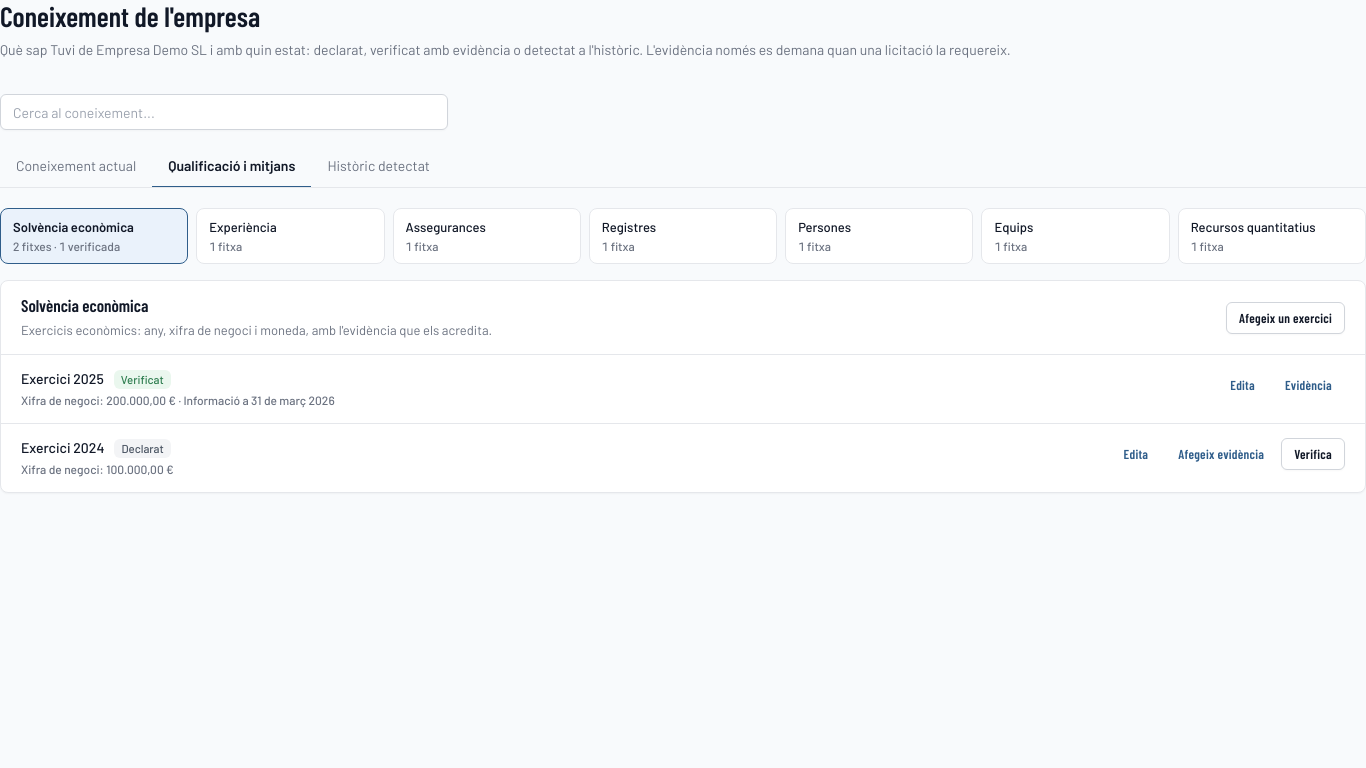
Qualificació i mitjans: formularis › l'error de l'API es llegeix en paraules, mai en JSON
Expected: the navigation bar named "Seccions de qualificació i mitjans" is shown, [0,208,1365,264]
Click the button "Afegeix un exercici": [1286, 318] box [1226,302,1345,334]
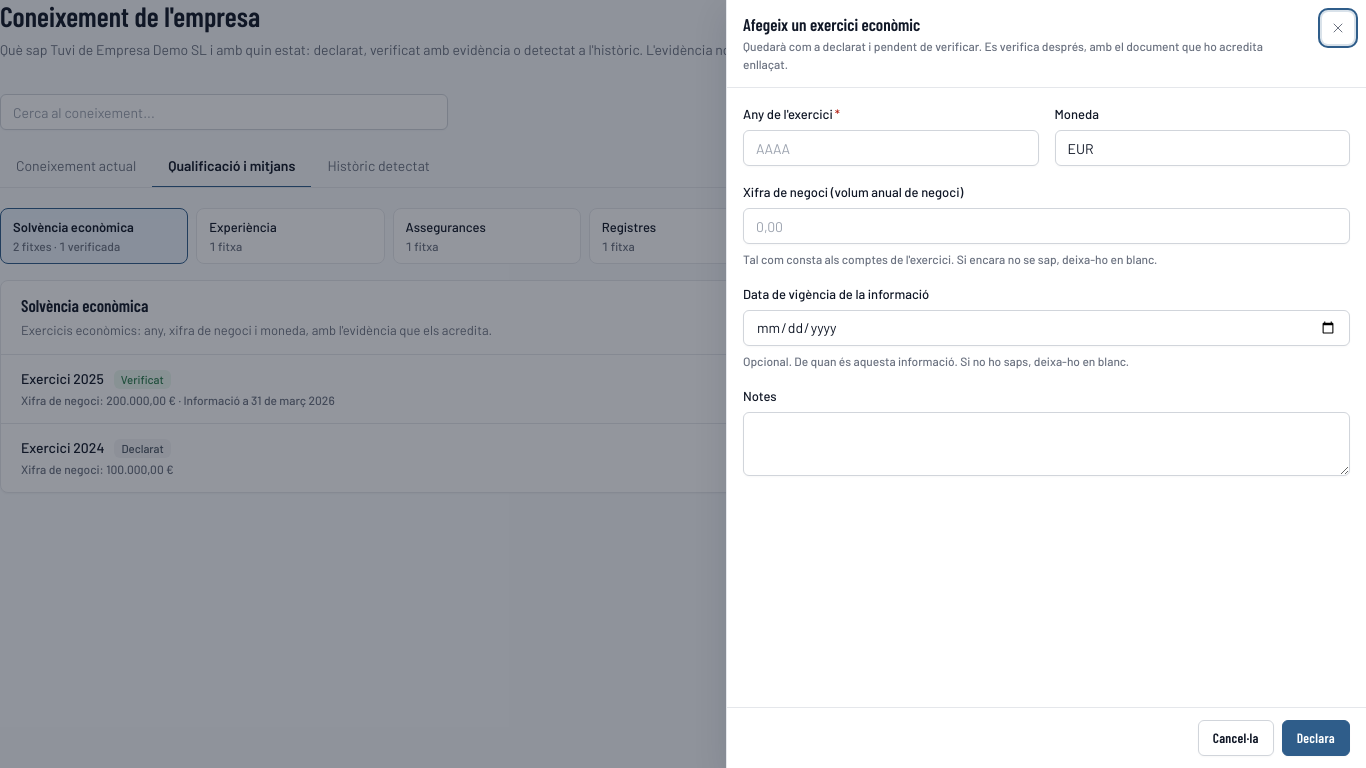
In the field labelled "Any de l'exercici*": [891, 148] box [743,130,1038,166], type "2023"
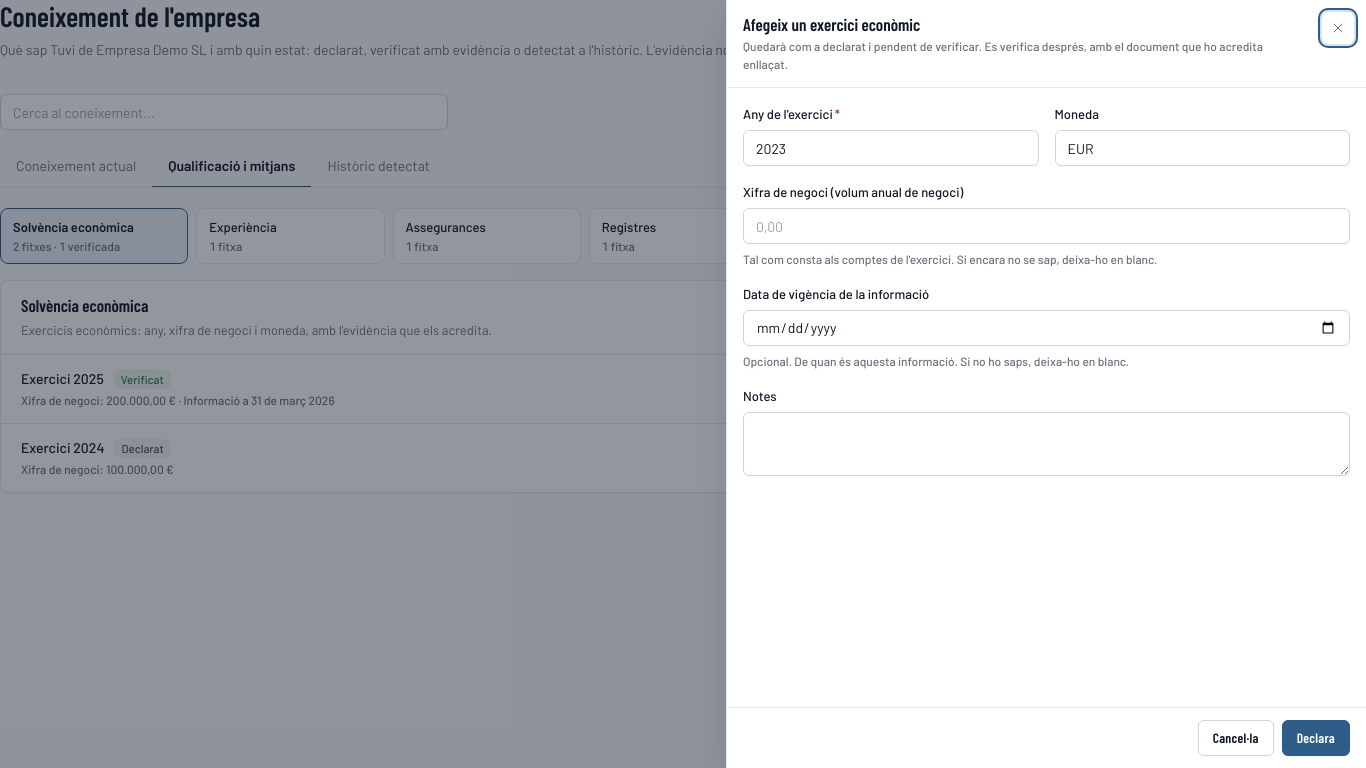
Click the button "Declara": [1316, 738] box [1282,720,1350,756]
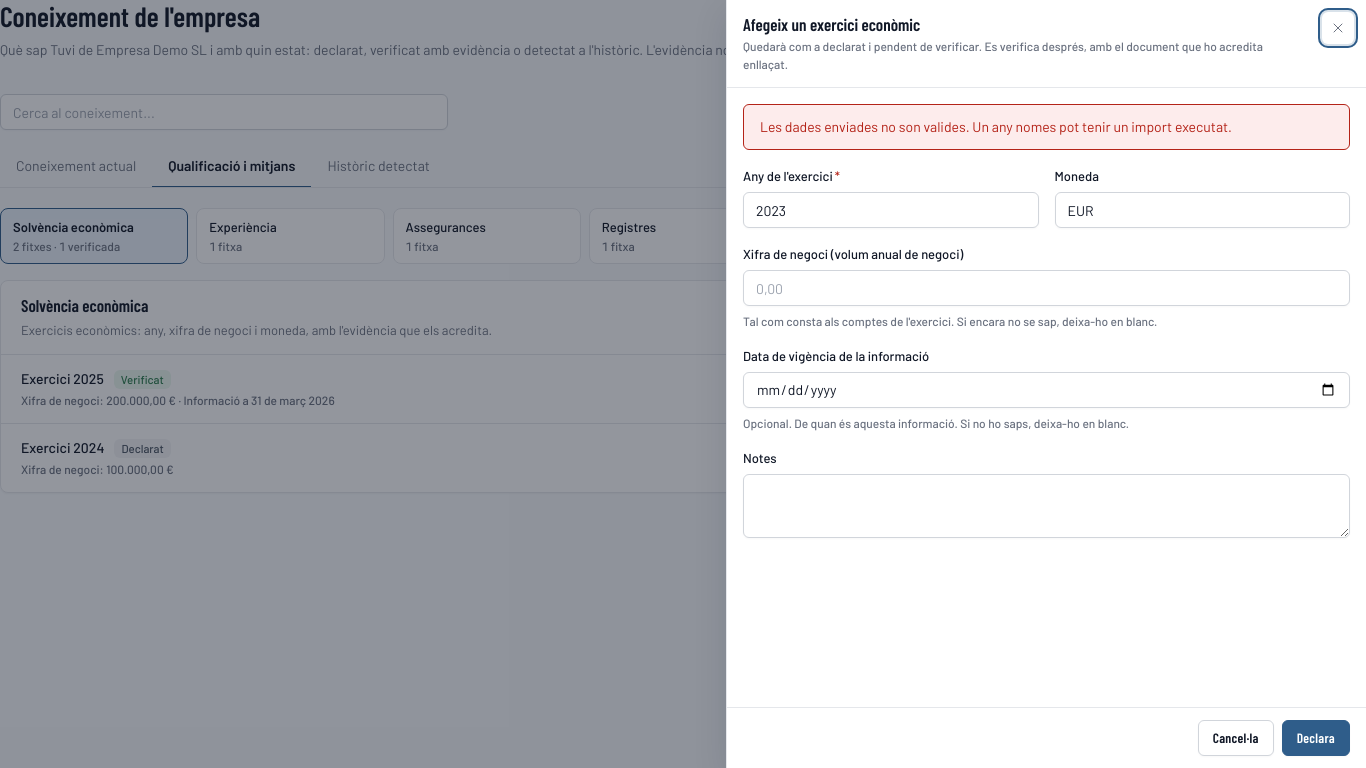
Expected: the dialog "Afegeix un exercici econòmic" shows "Les dades enviades no son valides. Un any nomes pot tenir un import executat.", [760,118,1232,135]
